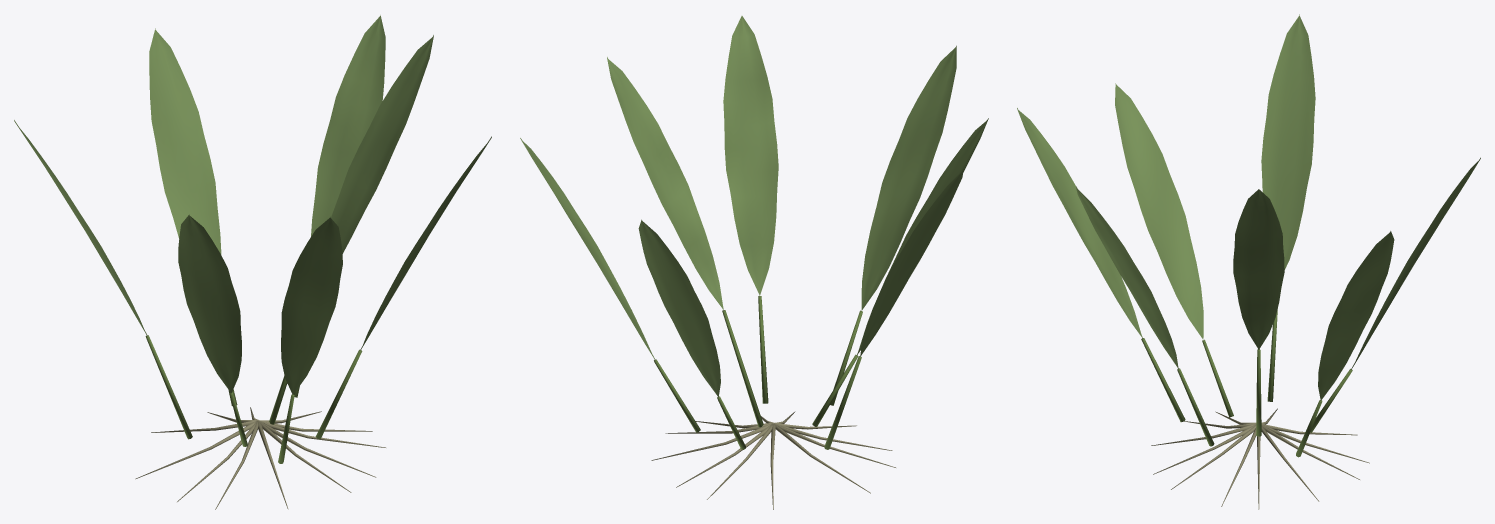
Rendered from stauro-desktop.glb.
3 views of the same model, side by side, from view 1: azimuth 30°, elevation 25°; view 2: azimuth 150°, elevation 25°; view 3: azimuth 270°, elevation 25° (orthographic). The views are drawn at different scales.
Parts seen in each view (by area): view 1: blade, anchoring-root, petiole; view 2: blade, petiole, anchoring-root; view 3: blade, petiole, anchoring-root.
Boxes of the visible parts, left/top/right/bottom form: blade: left=14, top=15, right=491, bottom=394; anchoring-root: left=135, top=407, right=385, bottom=509; petiole: left=145, top=335, right=362, bottom=463; blade: left=520, top=16, right=988, bottom=396; petiole: left=654, top=296, right=862, bottom=449; anchoring-root: left=651, top=411, right=895, bottom=509; blade: left=1017, top=14, right=1480, bottom=400; petiole: left=1141, top=310, right=1352, bottom=457; anchoring-root: left=1151, top=408, right=1369, bottom=509.
Size of the model in its own units: 0.4745 by 0.4158 by 0.4998.
